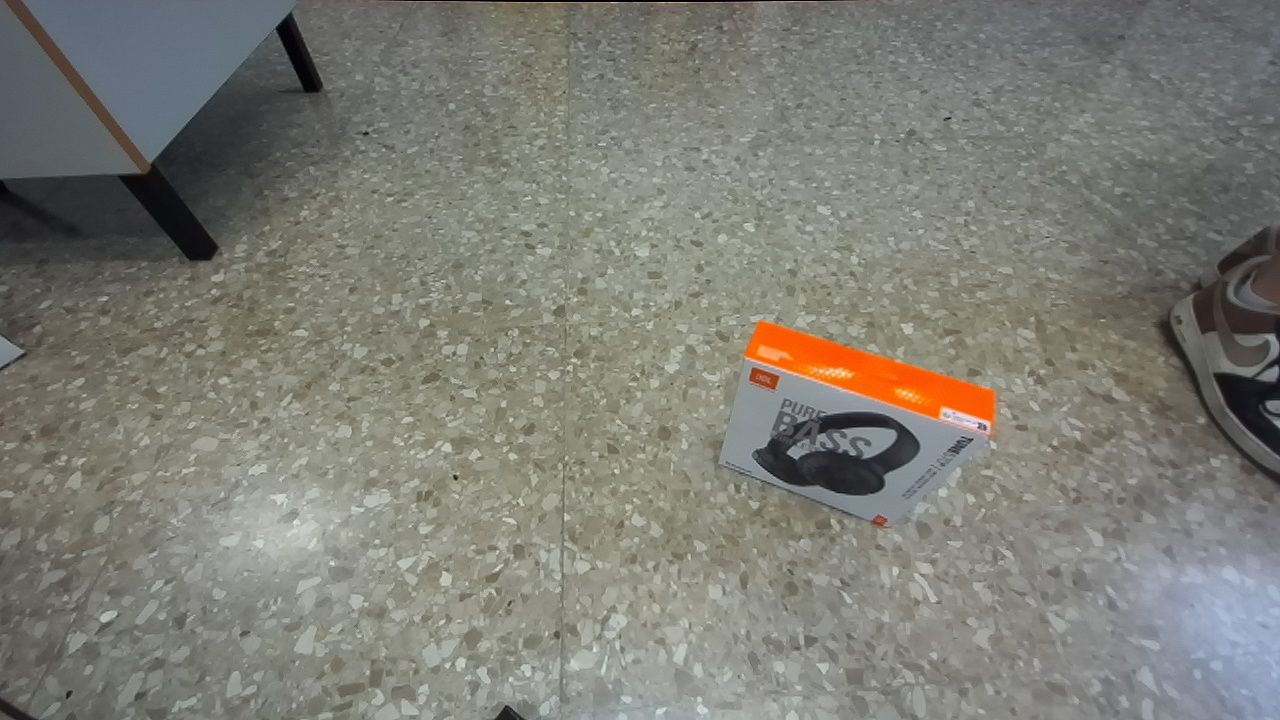caja_chasis: (719, 321, 994, 523)
